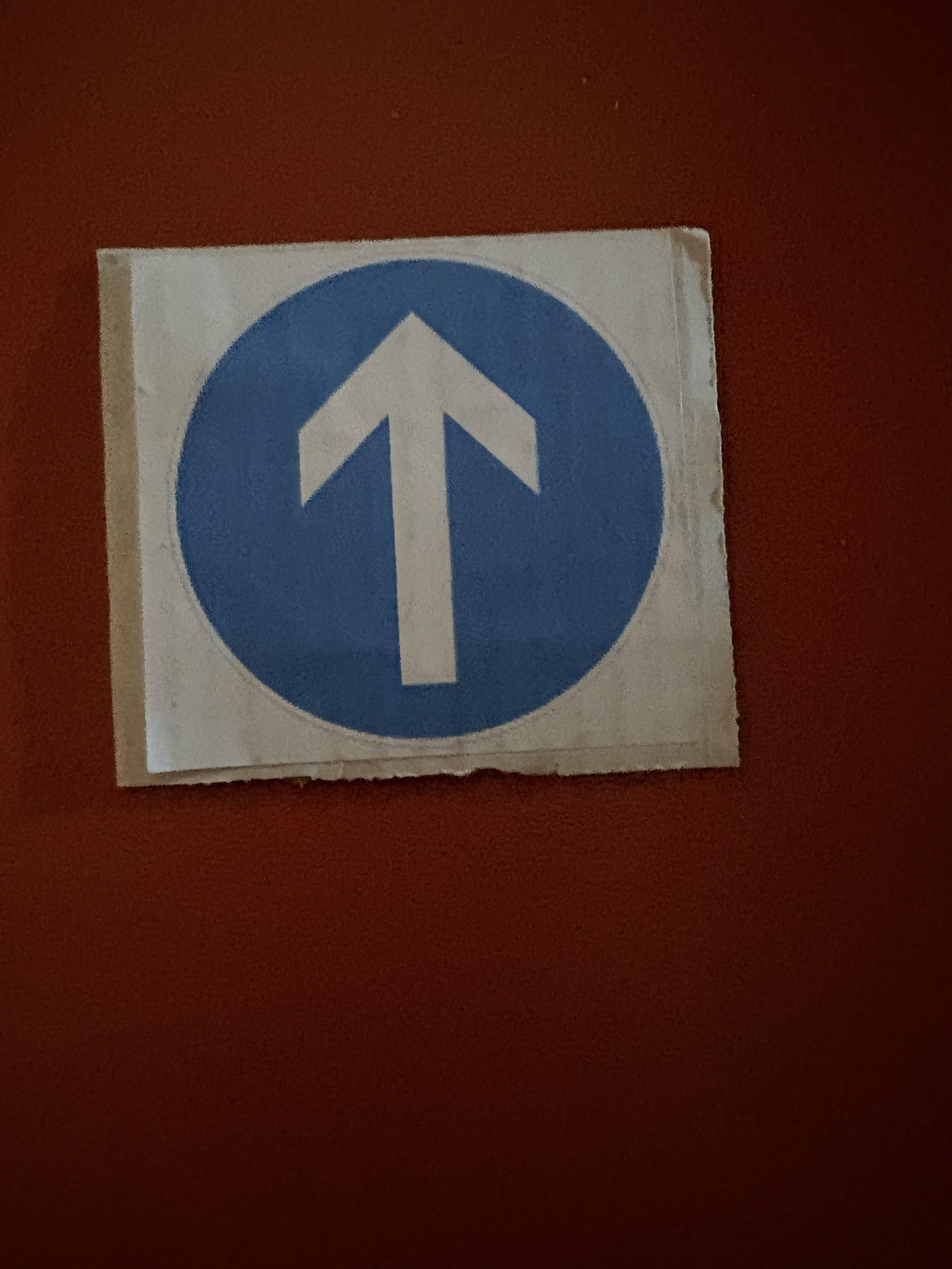Proceed Forward: (106, 221, 755, 811)
